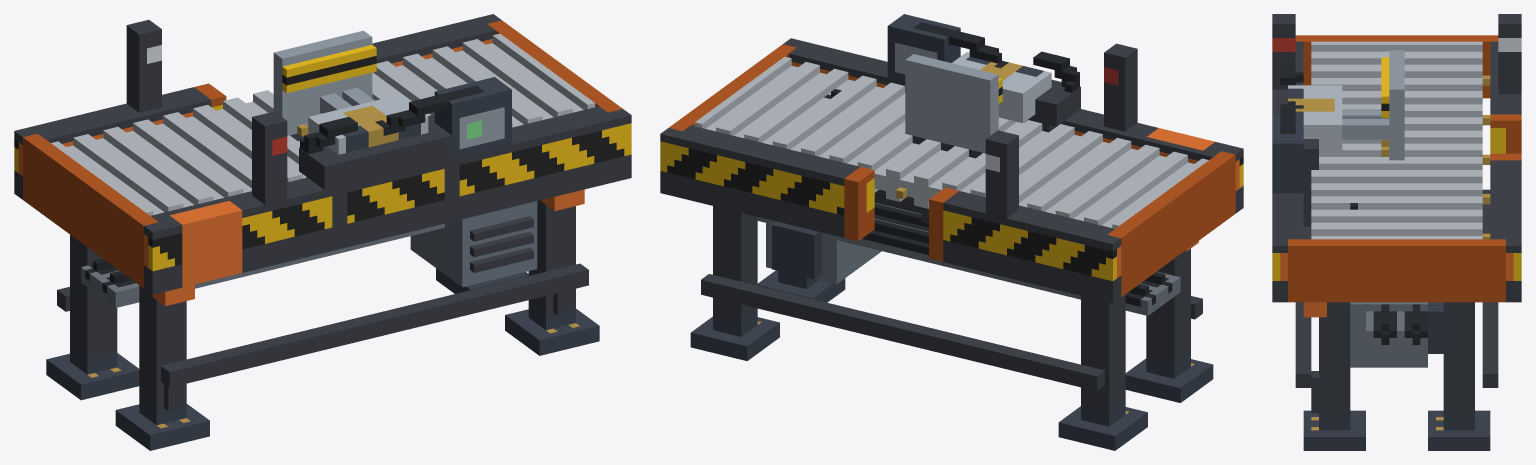
The model's file is conveyor_diverter.obj.
3 views of the same model, side by side, from view 1: azimuth 30°, elevation 25°; view 2: azimuth 150°, elevation 25°; view 3: azimuth 270°, elevation 25° (orthographic). The views are drawn at different scales.
Parts seen in each view (by area): view 1: frame, pusher; view 2: frame, pusher; view 3: frame, pusher.
Part boxes in pixels (x1,y1,x2,y2): frame: (14, 14, 631, 450); pusher: (273, 30, 376, 140); frame: (660, 14, 1243, 450); pusher: (905, 54, 1002, 158); frame: (1272, 14, 1521, 450); pusher: (1342, 50, 1404, 160).
Bounding box in the file's own units: 2 × 1.25 × 1.
